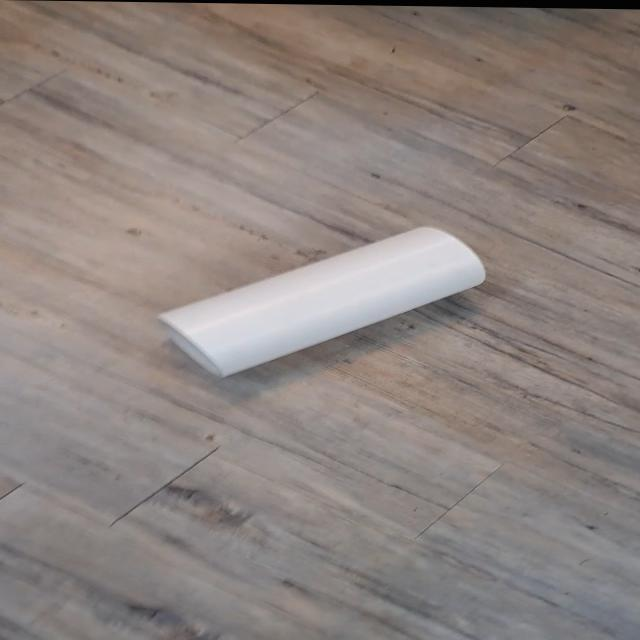CORAL: (149, 214, 499, 384)
